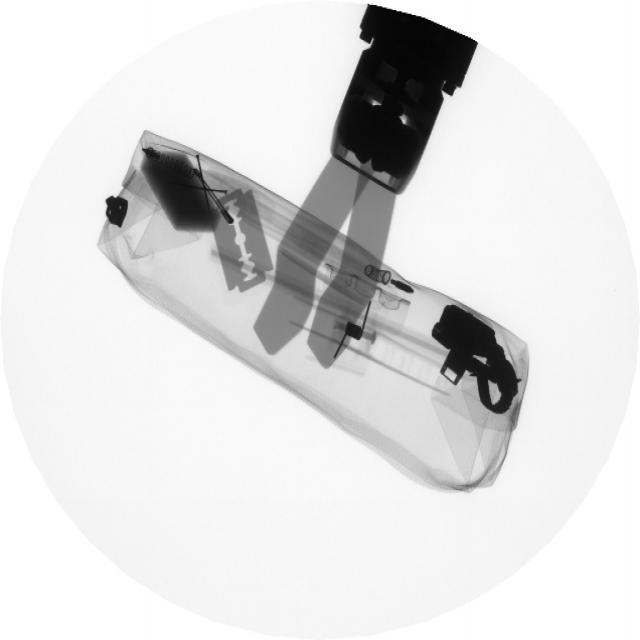BLADE: (212, 179, 276, 299)
